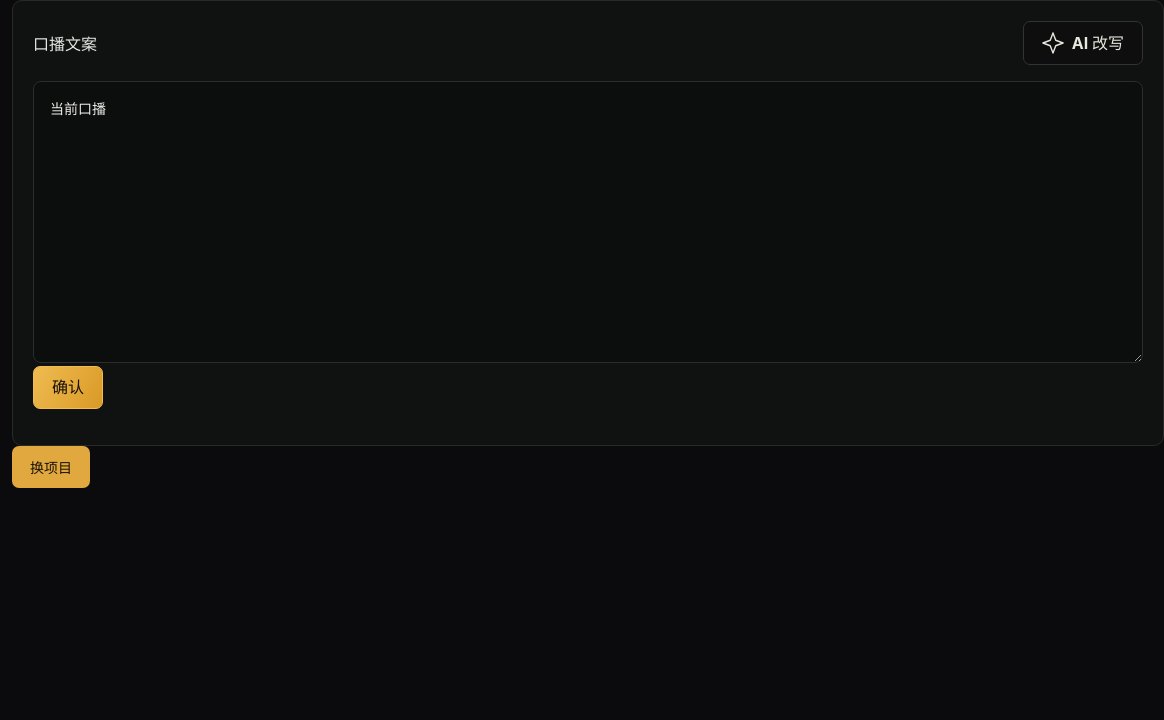
Test case: 在口播文案区域确认，编辑后须重新确认
Click the button "确认": (68, 387) [33,366,103,409]
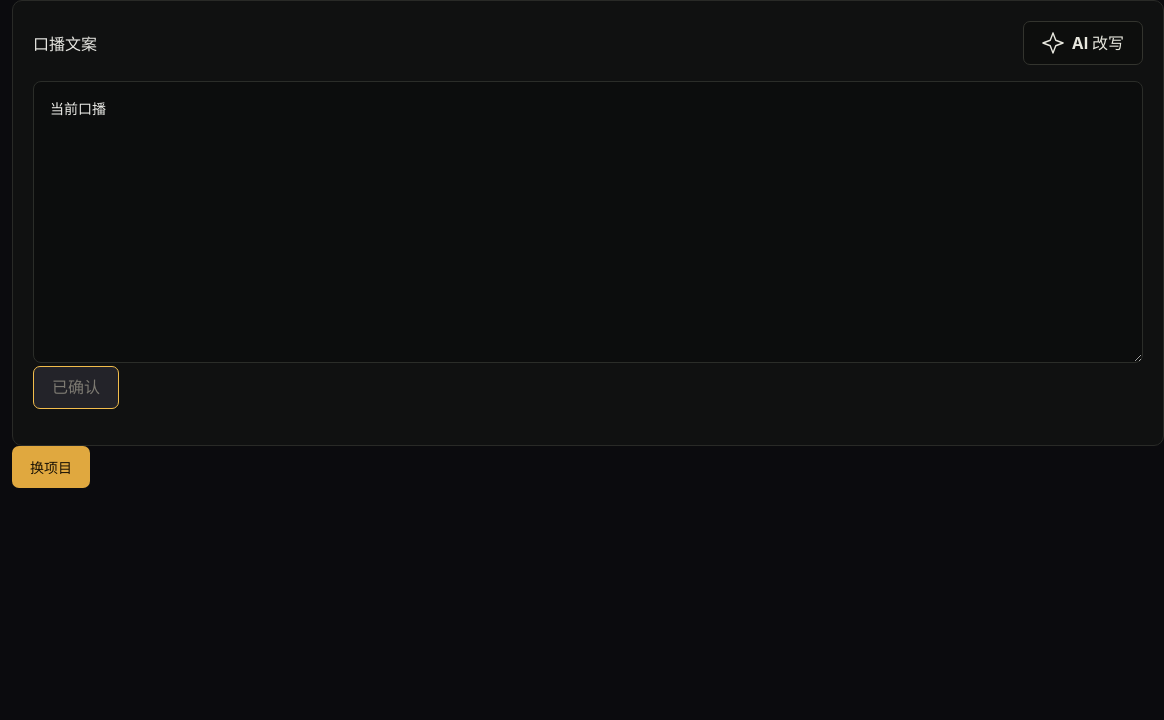
Expected: the button "已确认" is disabled, [33,366,119,409]
Replace the text in the text box named "口播文案" with "编辑后新文案": (588, 222) [33,81,1143,363]
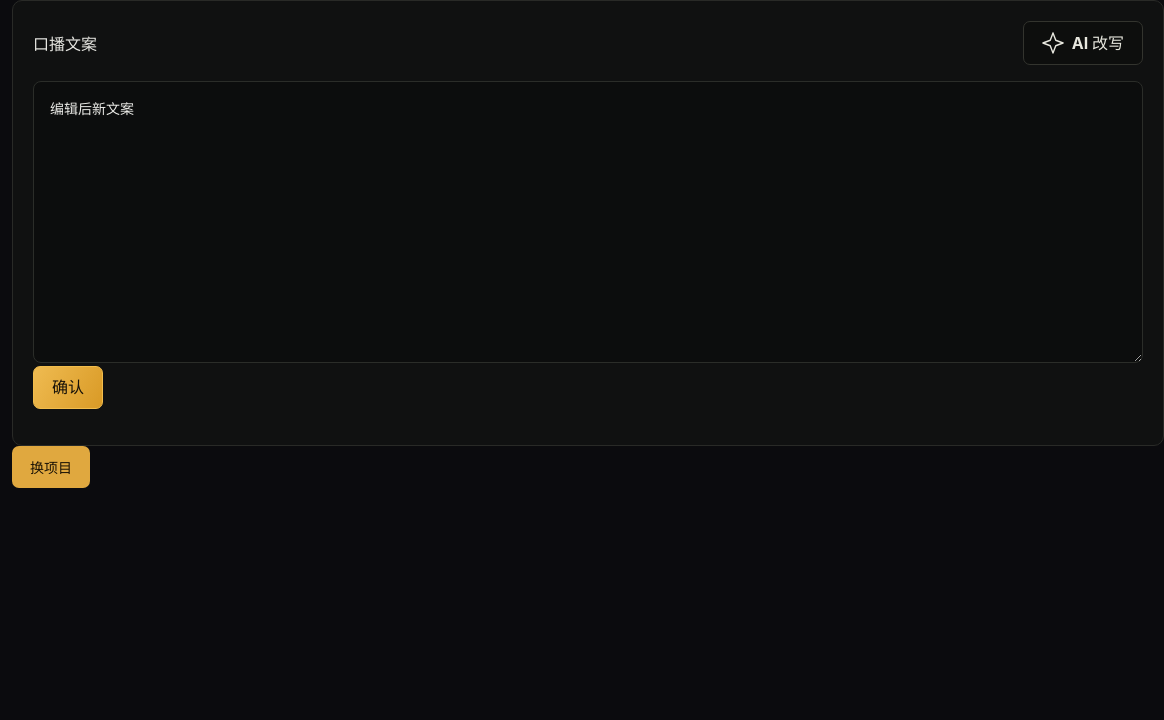
Expected: the button "确认" is enabled, [33,366,103,409]
